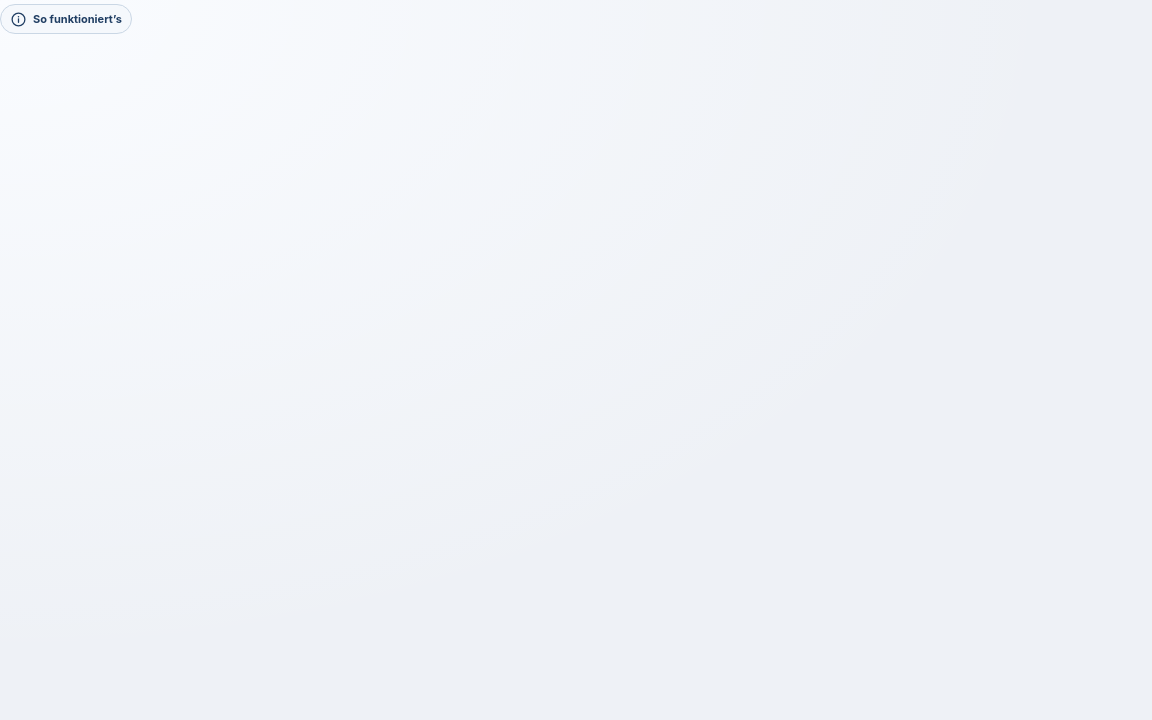
ElectionInfo › shows localized information in de
Click the button "So funktioniert’s". click: point(66, 19)
box: [0,4,132,34]
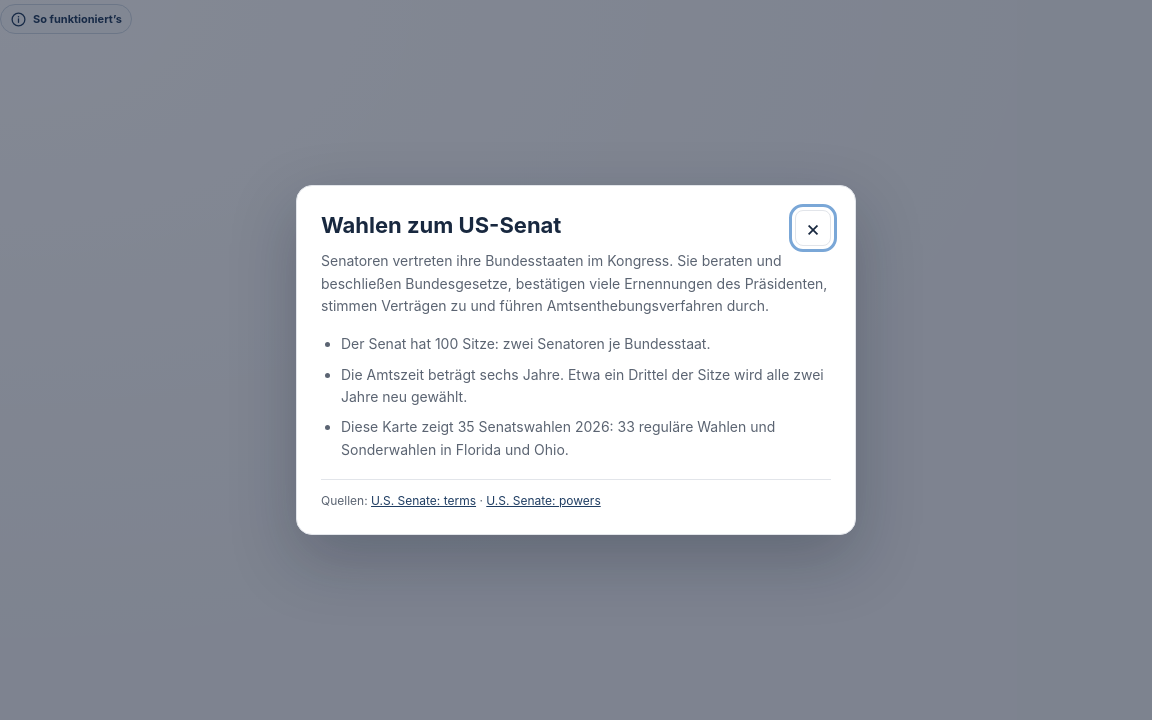
Result: the heading "Wahlen zum US-Senat" is shown at [321,212,561,238]
Result: the number of list items is 3 at [341,335,710,352]; [341,364,831,408]; [341,416,831,461]
